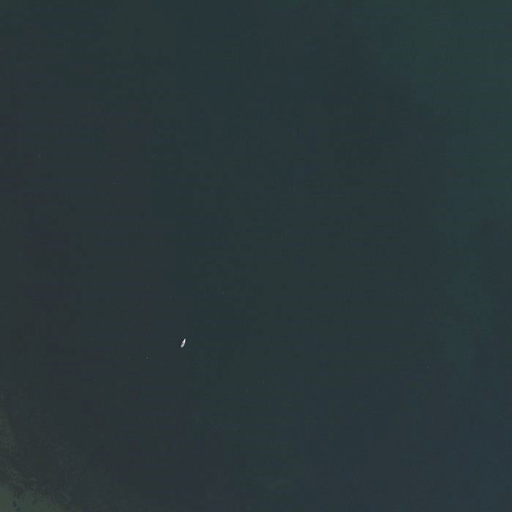ship: (179, 339, 187, 349)
